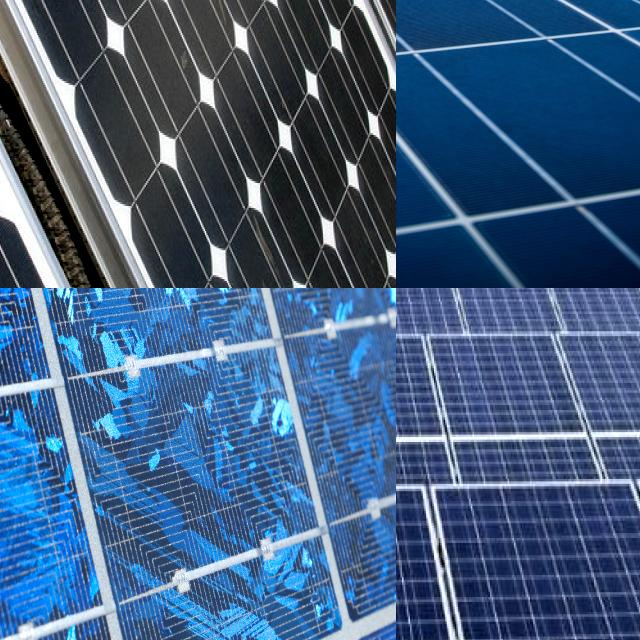crack: (0, 288, 396, 640), (0, 0, 396, 288), (396, 0, 640, 288), (0, 0, 209, 288), (424, 480, 640, 640), (424, 323, 606, 512), (549, 319, 640, 511)
